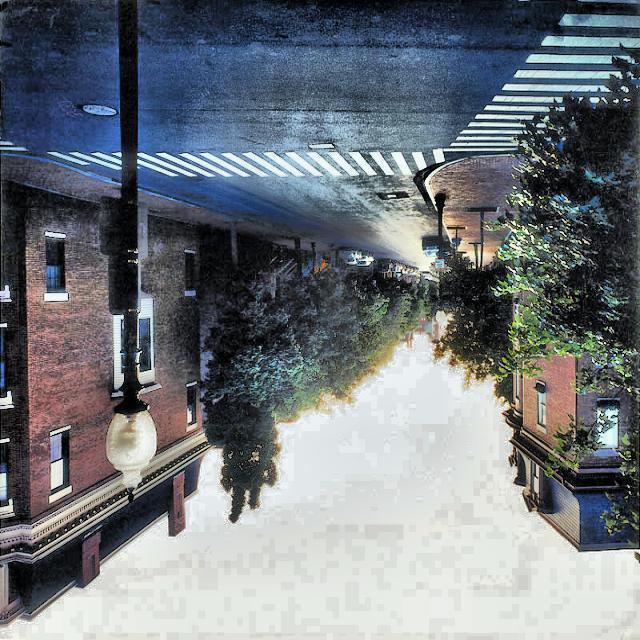crosswalk: (452, 0, 640, 154), (52, 148, 446, 179)
